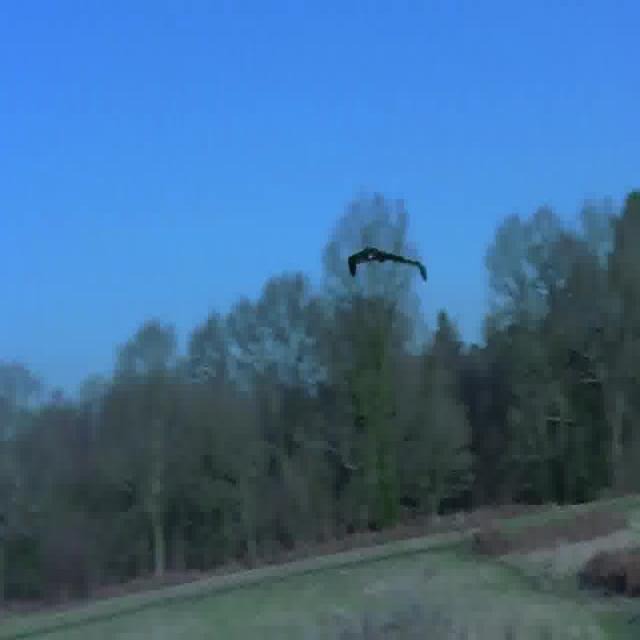iha: (376, 266, 402, 272)
